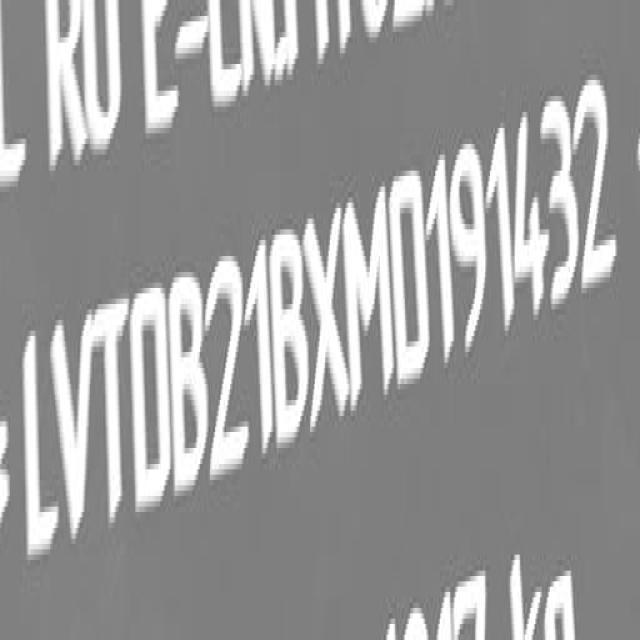1: (245, 238, 277, 464), (484, 122, 516, 338), (426, 155, 455, 371)
2: (208, 259, 250, 487), (579, 70, 621, 294)
3: (540, 88, 578, 314)
4: (507, 98, 547, 331)
9: (452, 127, 488, 376)
B: (172, 272, 214, 496), (270, 222, 308, 455)
D: (127, 278, 171, 513), (387, 162, 433, 385)
L: (17, 328, 61, 565)
M: (346, 186, 397, 412)
T: (86, 300, 132, 534)
V: (50, 314, 94, 553)
X: (304, 198, 348, 424)
